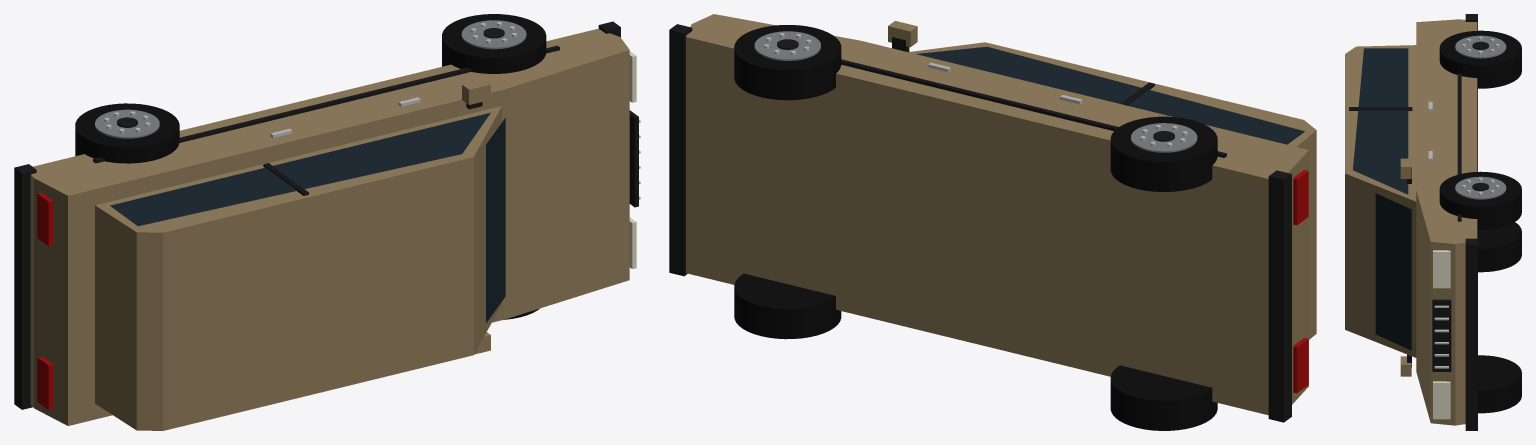
The model's file is car.obj.
The picture shows the model from 3 angles, left to right: view 1: azimuth 30°, elevation 25°; view 2: azimuth 150°, elevation 25°; view 3: azimuth 270°, elevation 25°; orthographic projection. The views are drawn at different scales.
Visible parts, largest first — view 1: Cabin, Body, Side_window, Tire, Rear_bumper, Windshield, Wheel_hub, Body_trim, Rear_lamp, Front_grille, Mirror, Headlamp; view 2: Body, Tire, Side_window, Rear_bumper, Cabin, Front_bumper, Wheel_hub, Body_trim, Rear_lamp; view 3: Body, Tire, Cabin, Side_window, Windshield, Front_bumper, Wheel_hub, Headlamp, Front_grille, Body_trim, Mirror, Grille_line (+4 smaller).
Boxes of the visible parts, box(x1,y1,x2,y2) form: Cabin: box(95, 106, 501, 430); Body: box(30, 29, 629, 425); Side_window: box(110, 112, 490, 226); Tire: box(75, 14, 546, 319); Rear_bumper: box(14, 164, 36, 409); Windshield: box(486, 118, 505, 322); Wheel_hub: box(95, 20, 526, 138); Body_trim: box(93, 45, 559, 163); Rear_lamp: box(37, 193, 52, 410); Front_grille: box(629, 110, 638, 207); Mirror: box(462, 79, 490, 354); Headlamp: box(629, 51, 636, 268); Body: box(686, 14, 1308, 415); Tire: box(734, 25, 1217, 430); Side_window: box(916, 46, 1304, 144); Rear_bumper: box(1268, 170, 1291, 422); Cabin: box(909, 42, 1316, 339); Front_bumper: box(669, 24, 692, 276); Wheel_hub: box(754, 31, 1197, 152); Body_trim: box(841, 59, 1226, 157); Rear_lamp: box(1293, 170, 1308, 393); Body: box(1416, 19, 1477, 425); Tire: box(1439, 30, 1521, 413); Cabin: box(1345, 45, 1416, 357); Side_window: box(1353, 48, 1408, 194); Windshield: box(1375, 193, 1411, 350); Front_bumper: box(1465, 238, 1477, 430); Wheel_hub: box(1455, 35, 1506, 199); Headlamp: box(1433, 250, 1450, 419); Front_grille: box(1432, 299, 1451, 371); Body_trim: box(1457, 73, 1461, 221); Mirror: box(1400, 158, 1411, 376); Grille_line: box(1434, 305, 1448, 368).
Size of the model in its own units: 4.9 by 2.12 by 1.59.
